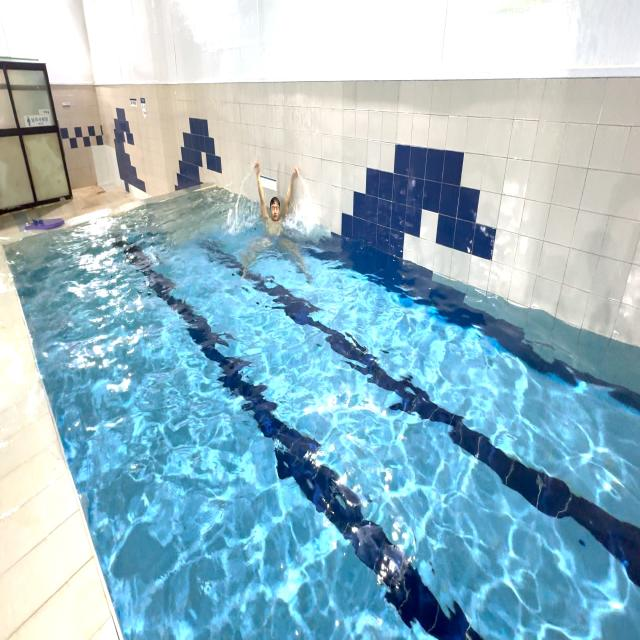Drowning: (231, 152, 320, 295)
